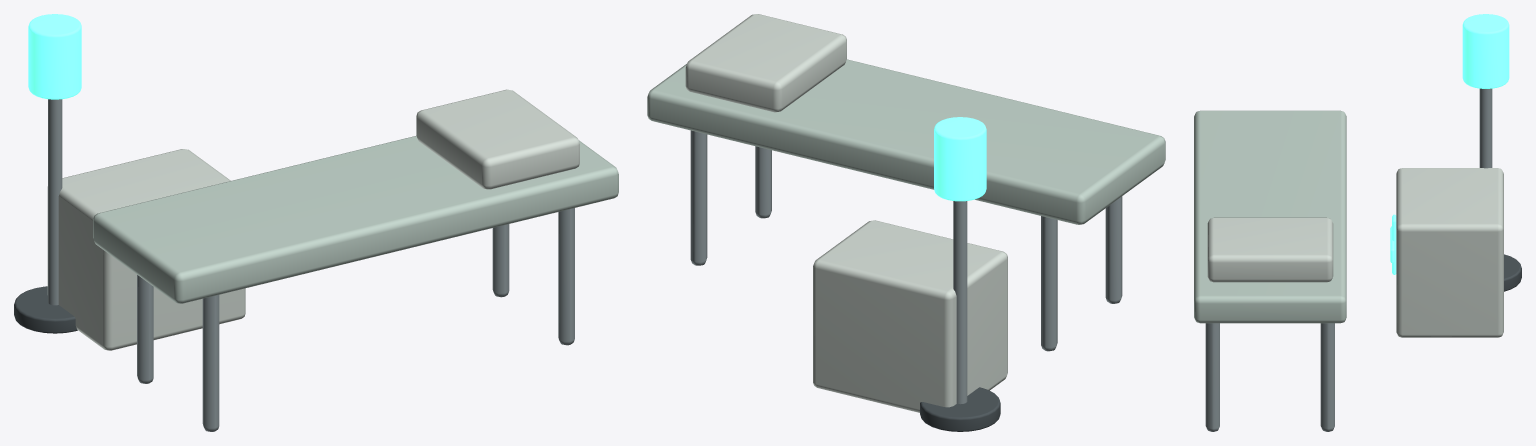
Rendered from memory-medical.glb.
3 renders of one model, left to right at view 1: azimuth 30°, elevation 25°; view 2: azimuth 150°, elevation 25°; view 3: azimuth 270°, elevation 25°, orthographic. The views are drawn at different scales.
Parts seen in each view (by area): view 1: memory-medical; view 2: memory-medical; view 3: memory-medical.
Boxes of the visible parts, bbox=[...] form: memory-medical: bbox=[14, 14, 618, 431]; memory-medical: bbox=[647, 14, 1165, 431]; memory-medical: bbox=[1194, 14, 1521, 431].
Bounding box in the file's own units: 2.5 × 1.57 × 1.83.
